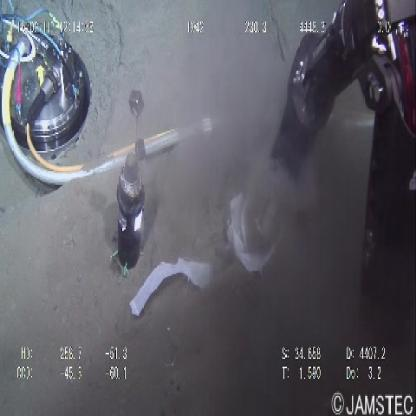Rov: (267, 2, 416, 192), (1, 2, 93, 191), (108, 80, 149, 279)
Rác: (130, 180, 298, 322)
